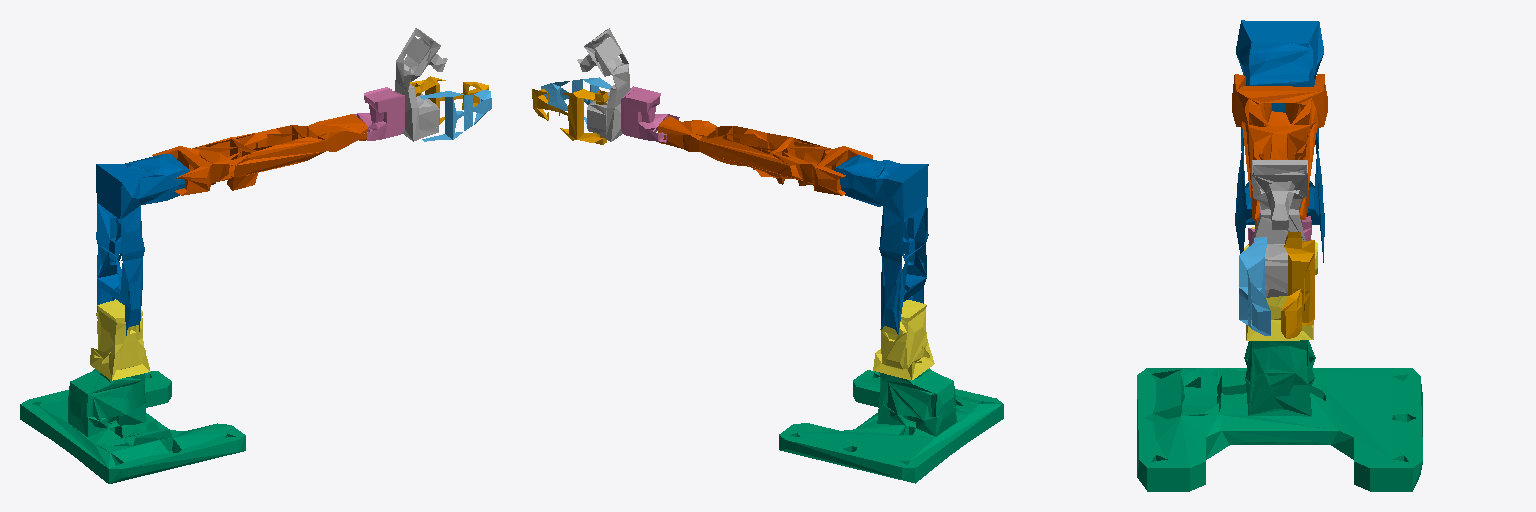
robot.urdf — omx_f:
<robot name="omx_f">
  <link name="world"/>
  <link name="end_effector_link"/>
  <link name="link0"><visual><geometry><mesh filename="omx-link0.stl"/></geometry></visual></link>
  <link name="link1"><visual><geometry><mesh filename="omx-link1.stl"/></geometry></visual></link>
  <link name="link2"><visual><geometry><mesh filename="omx-link2.stl"/></geometry></visual></link>
  <link name="link3"><visual><geometry><mesh filename="omx-link3.stl"/></geometry></visual></link>
  <link name="link4"><visual><geometry><mesh filename="omx-link4.stl"/></geometry></visual></link>
  <link name="link5"><visual><geometry><mesh filename="omx-link5.stl"/></geometry></visual></link>
  <link name="link6"><visual><geometry><mesh filename="omx-link6.stl"/></geometry></visual></link>
  <link name="link7"><visual><geometry><mesh filename="omx-link7.stl"/></geometry></visual></link>
  <joint name="world_fixed" type="fixed"><parent link="world"/><child link="link0"/><origin xyz="0.0 0.0 0.0" rpy="0 0 0"/></joint>
  <joint name="end_effector_joint" type="fixed"><parent link="link5"/><child link="end_effector_link"/><origin xyz="0.09193 -0.0016 0" rpy="0 0 0"/></joint>
  <joint name="joint1" type="revolute"><parent link="link0"/><child link="link1"/><origin xyz="-0.01125 0 0.034" rpy="0 0 0"/><axis xyz="0 0 1"/><limit lower="-6.283185307179586" upper="6.283185307179586"/></joint>
  <joint name="joint2" type="revolute"><parent link="link1"/><child link="link2"/><origin xyz="0 0 0.0635" rpy="0 0 0"/><axis xyz="0 1 0"/><limit lower="-6.283185307179586" upper="6.283185307179586"/></joint>
  <joint name="joint3" type="revolute"><parent link="link2"/><child link="link3"/><origin xyz="0.0415 0 0.11315" rpy="0 0 0"/><axis xyz="0 1 0"/><limit lower="-6.283185307179586" upper="6.283185307179586"/></joint>
  <joint name="joint4" type="revolute"><parent link="link3"/><child link="link4"/><origin xyz="0.162 0 0" rpy="0 0 0"/><axis xyz="0 1 0"/><limit lower="-6.283185307179586" upper="6.283185307179586"/></joint>
  <joint name="joint5" type="revolute"><parent link="link4"/><child link="link5"/><origin xyz="0.0287 0 0" rpy="0 0 0"/><axis xyz="1 0 0"/><limit lower="-6.283185307179586" upper="6.283185307179586"/></joint>
  <joint name="gripper_joint_1" type="revolute"><parent link="link5"/><child link="link6"/><origin xyz="0.0295 0.0075 0" rpy="0 0 0"/><axis xyz="0 0 1"/><limit lower="-6.283185307179586" upper="6.283185307179586"/></joint>
  <joint name="gripper_joint_2" type="revolute"><parent link="link5"/><child link="link7"/><origin xyz="0.0295 -0.0108 0" rpy="0 0 0"/><axis xyz="0 0 1"/><limit lower="-6.283185307179586" upper="6.283185307179586"/><mimic joint="gripper_joint_1" multiplier="-1"/></joint>
</robot>

--- What the picture shows (computed from the rendered views, not written in the file) ---
Views: 3 orthographic renders of the robot side by side, from view 1: azimuth 30°, elevation 25°; view 2: azimuth 150°, elevation 25°; view 3: azimuth 270°, elevation 25°.
Robot: omx_f — 10 links, 9 joints (7 revolute, 2 fixed); root link world; default pose: every joint at zero.
Links seen in each view (by area): view 1: link0, link2, link3, link1, link5, link4, link7, link6; view 2: link0, link2, link3, link1, link5, link4, link6, link7; view 3: link0, link2, link3, link5, link6, link7, link1.
Boxes of the visible links, x1,y1,x2,y2 form: link0: (20, 369, 245, 483); link2: (96, 154, 189, 335); link3: (152, 114, 367, 195); link1: (90, 300, 150, 380); link5: (395, 28, 447, 141); link4: (354, 87, 404, 140); link7: (420, 90, 491, 141); link6: (410, 76, 488, 124); link0: (779, 368, 1003, 483); link2: (834, 155, 928, 334); link3: (658, 116, 872, 195); link1: (873, 300, 934, 380); link5: (577, 28, 630, 141); link4: (621, 86, 679, 142); link6: (532, 89, 608, 144); link7: (541, 77, 611, 123); link0: (1137, 340, 1422, 491); link2: (1235, 20, 1324, 262); link3: (1232, 74, 1327, 228); link5: (1252, 160, 1307, 297); link6: (1281, 232, 1314, 338); link7: (1239, 237, 1270, 335); link1: (1244, 227, 1317, 340).
Size in the robot's own frame: 0.3734 by 0.1447 by 0.2759 metres.
8 mesh visuals loaded from 8 distinct referenced files (8 binary STL).
